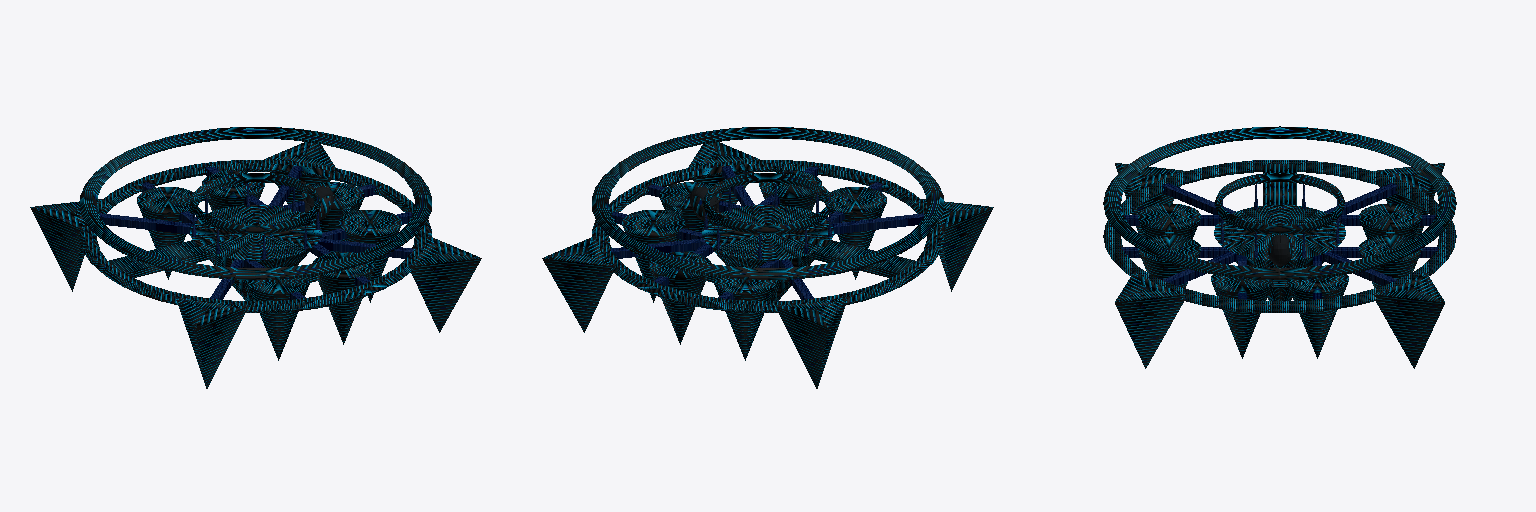
The picture shows the model from 3 angles: view 1: azimuth 30°, elevation 25°; view 2: azimuth 150°, elevation 25°; view 3: azimuth 270°, elevation 25°; orthographic projection.
Visible parts, largest first — view 1: Torus1, Torus, Cone5, Cone3, Cone4, Cone1, Torus3, Cone8, Cone7, Cone18, Cone9, Box4 (+5 smaller); view 2: Torus1, Torus, Cone5, Cone2, Cone1, Cone4, Torus3, Cone7, Cone8, Cone19, Cone6, Box4 (+5 smaller); view 3: Torus1, Torus, Cone5, Cone3, Cone2, Torus3, Cone18, Cone19, Cone8, Cone7, Cone6, Cone9 (+8 smaller).
Part boxes in pixels (bbox=[...]): Torus1: bbox=[80, 127, 431, 279]; Torus: bbox=[80, 160, 431, 312]; Cone5: bbox=[190, 205, 321, 300]; Cone3: bbox=[408, 236, 481, 332]; Cone4: bbox=[176, 297, 248, 388]; Cone1: bbox=[30, 199, 102, 291]; Torus3: bbox=[191, 173, 320, 233]; Cone8: bbox=[247, 277, 309, 360]; Cone7: bbox=[137, 187, 199, 279]; Cone18: bbox=[339, 210, 401, 302]; Cone9: bbox=[312, 252, 374, 344]; Box4: bbox=[108, 240, 213, 277]; Torus1: bbox=[592, 127, 943, 279]; Torus: bbox=[592, 160, 943, 312]; Cone5: bbox=[702, 205, 833, 300]; Cone2: bbox=[542, 236, 615, 332]; Cone1: bbox=[775, 297, 847, 388]; Cone4: bbox=[921, 199, 993, 291]; Torus3: bbox=[703, 173, 832, 233]; Cone7: bbox=[714, 277, 776, 360]; Cone8: bbox=[824, 187, 886, 279]; Cone19: bbox=[622, 210, 684, 302]; Cone6: bbox=[649, 252, 711, 344]; Box4: bbox=[810, 240, 915, 277]; Torus1: bbox=[1103, 126, 1456, 279]; Torus: bbox=[1103, 160, 1456, 312]; Cone5: bbox=[1214, 205, 1345, 300]; Cone3: bbox=[1115, 271, 1187, 368]; Cone2: bbox=[1372, 271, 1444, 368]; Torus3: bbox=[1215, 172, 1344, 233]; Cone18: bbox=[1211, 266, 1273, 358]; Cone19: bbox=[1286, 266, 1348, 358]; Cone8: bbox=[1138, 203, 1200, 238]; Cone7: bbox=[1359, 203, 1421, 238]; Cone6: bbox=[1359, 235, 1421, 288]; Cone9: bbox=[1138, 235, 1200, 288].
Size of the model in its own units: 40 by 14.17 by 40.
2 materials, 2 textured.